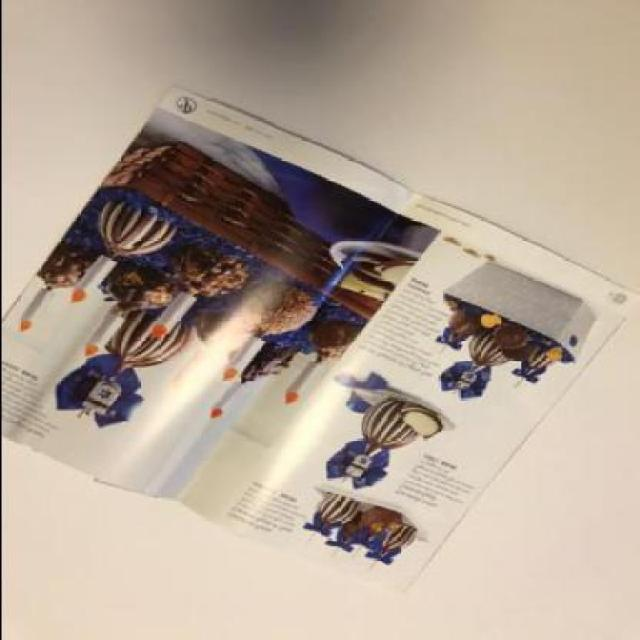PAPER: (1, 88, 638, 597)
